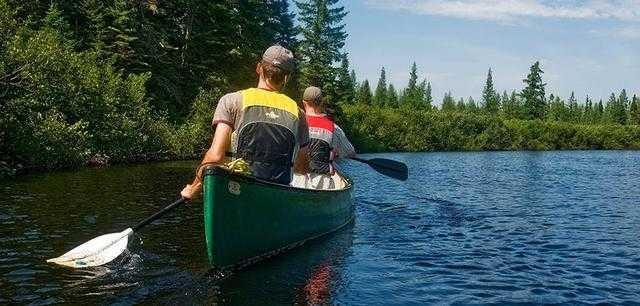kayak: (201, 165, 355, 271), (46, 228, 133, 271)
